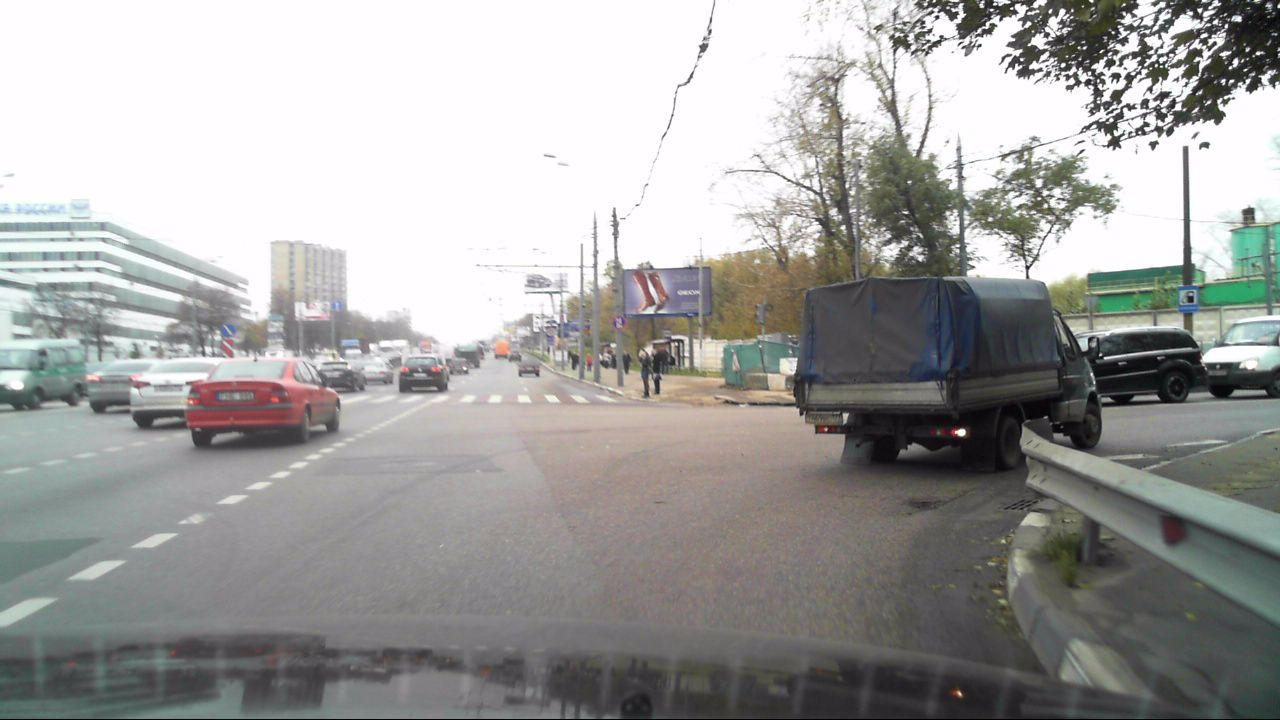road_sign: (1179, 285, 1199, 312)
